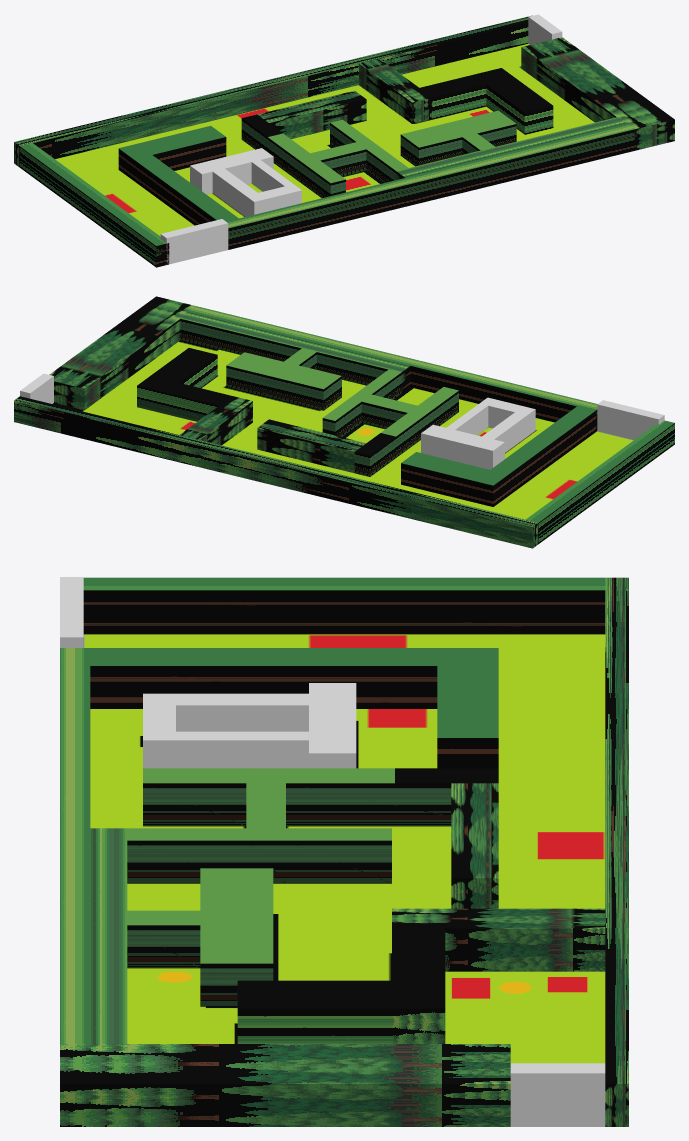
Rendered from route1.glb.
3 views of the same model, one above another, from view 1: azimuth 30°, elevation 25°; view 2: azimuth 150°, elevation 25°; view 3: azimuth 270°, elevation 25° (orthographic). The views are drawn at different scales.
Parts seen in each view (by area): view 1: Cube.003, Plane, Cube.004, Cube.006, Cube.005; view 2: Cube.003, Plane, Cube.004, Cube.006, Cube.005; view 3: Cube.003, Plane, Cube.004, Cube.005, Cube.006.
Boxes of the visible parts, x1,y1,x2,y2 form: Cube.003: [14, 15, 674, 267]; Plane: [55, 44, 594, 236]; Cube.004: [190, 148, 301, 216]; Cube.006: [160, 219, 228, 264]; Cube.005: [528, 14, 562, 44]; Cube.003: [14, 296, 674, 548]; Plane: [52, 340, 633, 519]; Cube.004: [421, 397, 535, 469]; Cube.006: [597, 400, 664, 439]; Cube.005: [20, 373, 53, 403]; Cube.003: [60, 577, 628, 1126]; Plane: [83, 633, 605, 1063]; Cube.004: [143, 683, 356, 768]; Cube.005: [510, 1063, 605, 1126]; Cube.006: [60, 577, 83, 647].
Bounding box in the file's own units: 101 × 5 × 48.
2 materials, 2 textured.
